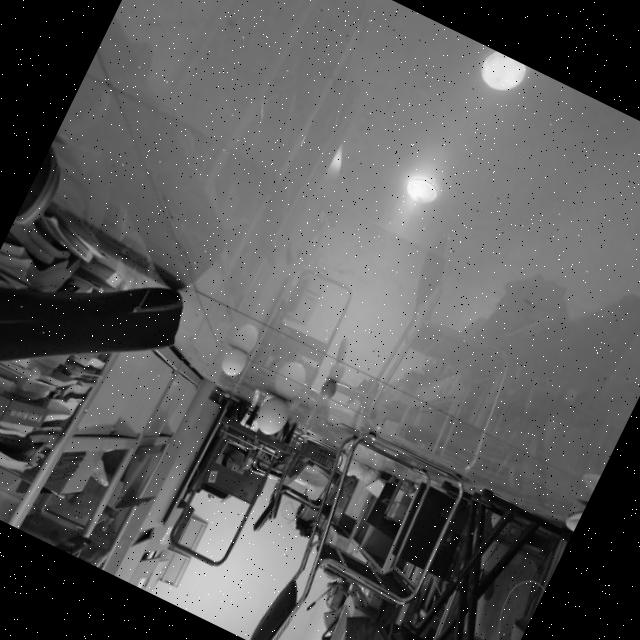ping-pong-ball: (317, 376, 339, 400)
